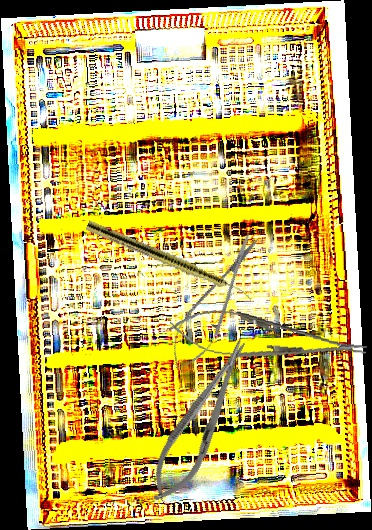Handpiece: (84, 219, 256, 303)
Micro Scissor: (159, 226, 271, 378)
Needle Holder: (139, 331, 263, 512), (166, 303, 370, 374)
